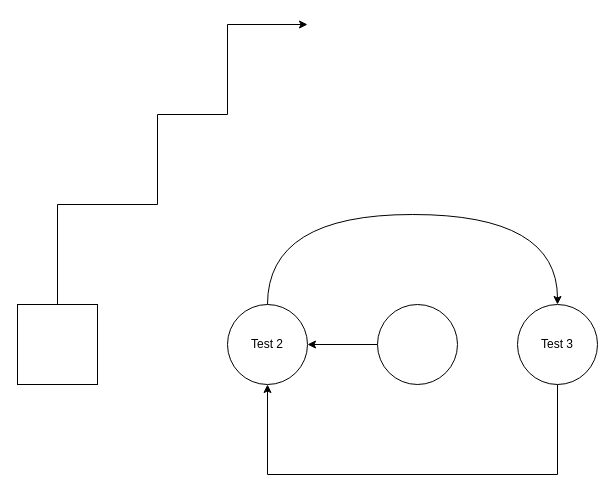
Some shapes in this 615 by 500 pixel diagram are drawn without their labels. The centre of each missing label's shape, as x and y in pixels:
"Test 1" belongs at (x=57, y=344).
"Test 4" belongs at (x=417, y=344).
